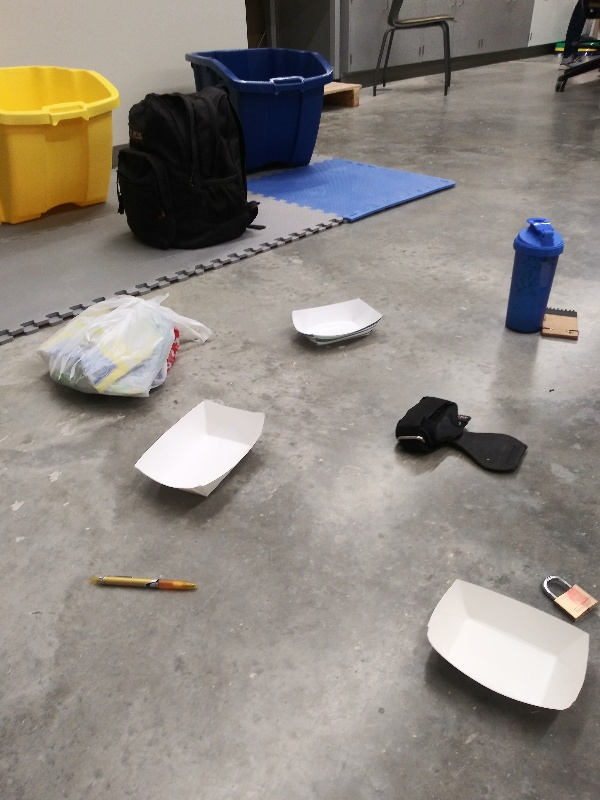plate: (420, 576, 593, 718), (128, 396, 271, 506), (287, 292, 388, 353)
